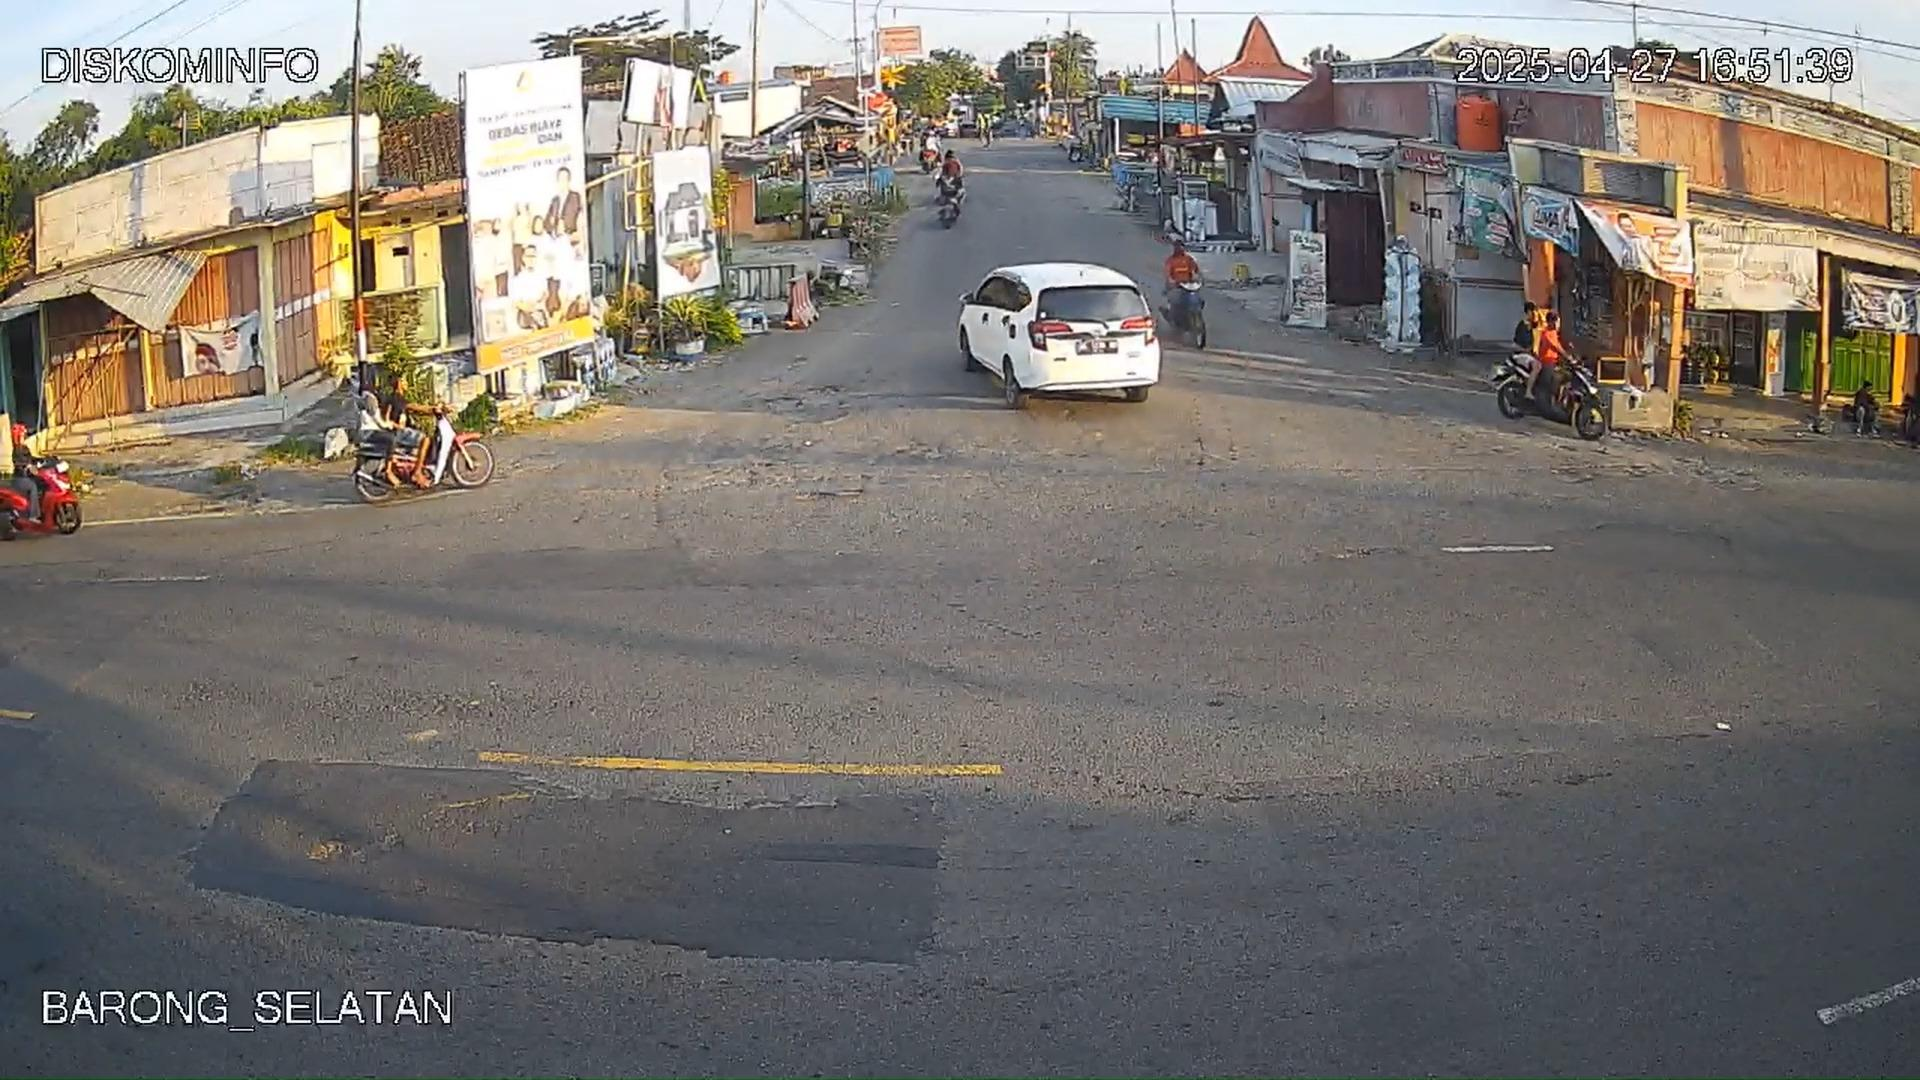Motor: (359, 378, 493, 497), (1486, 345, 1604, 439), (3, 444, 84, 541), (1163, 237, 1204, 340)
mobil: (965, 248, 1166, 411)
